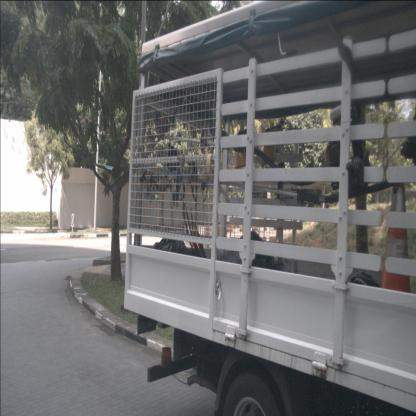vehicle-truck: (123, 0, 416, 415)
